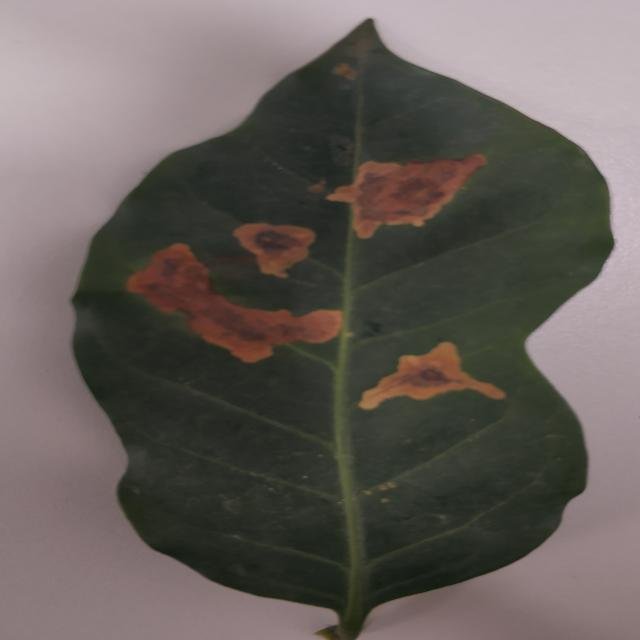Plaga-Minador: (69, 18, 616, 640)
